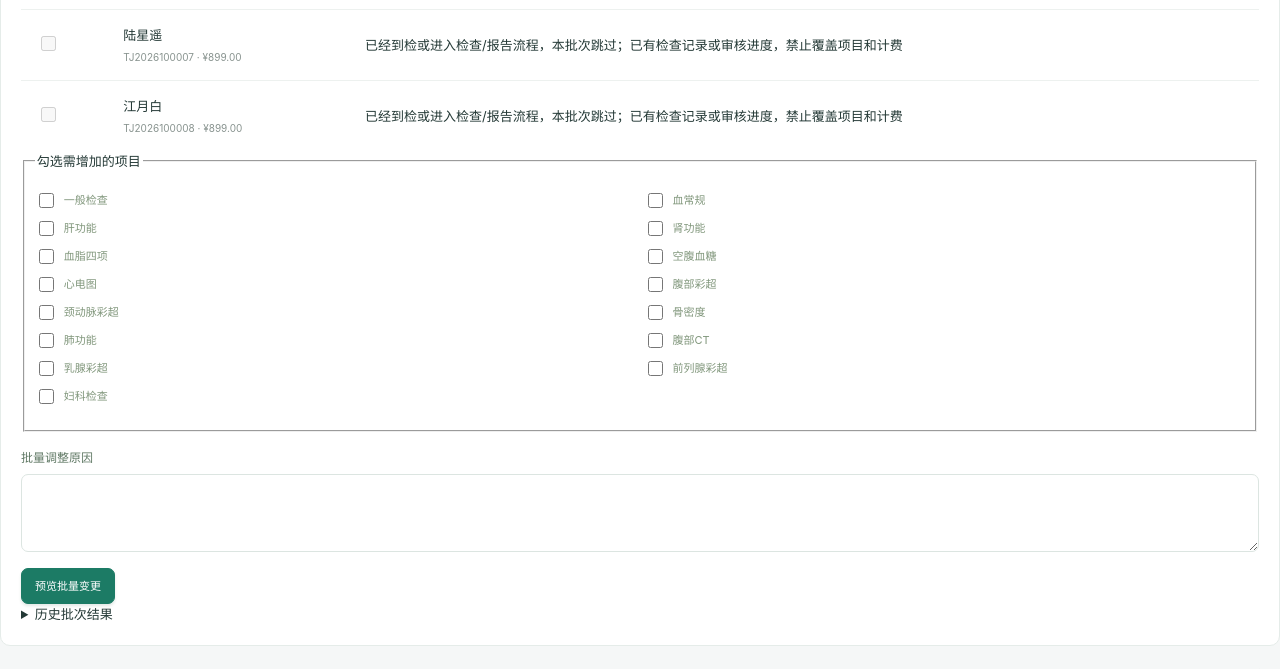
it: guarded batch order editing › BO10 / T0183 UI cancel does not persist; confirmed visual batch shows per-order results
This screenshot has width=1280, height=669.
(page scrolled)
Click the checkbox named "批量项目 骨密度": (655, 313) [648, 305, 662, 320]
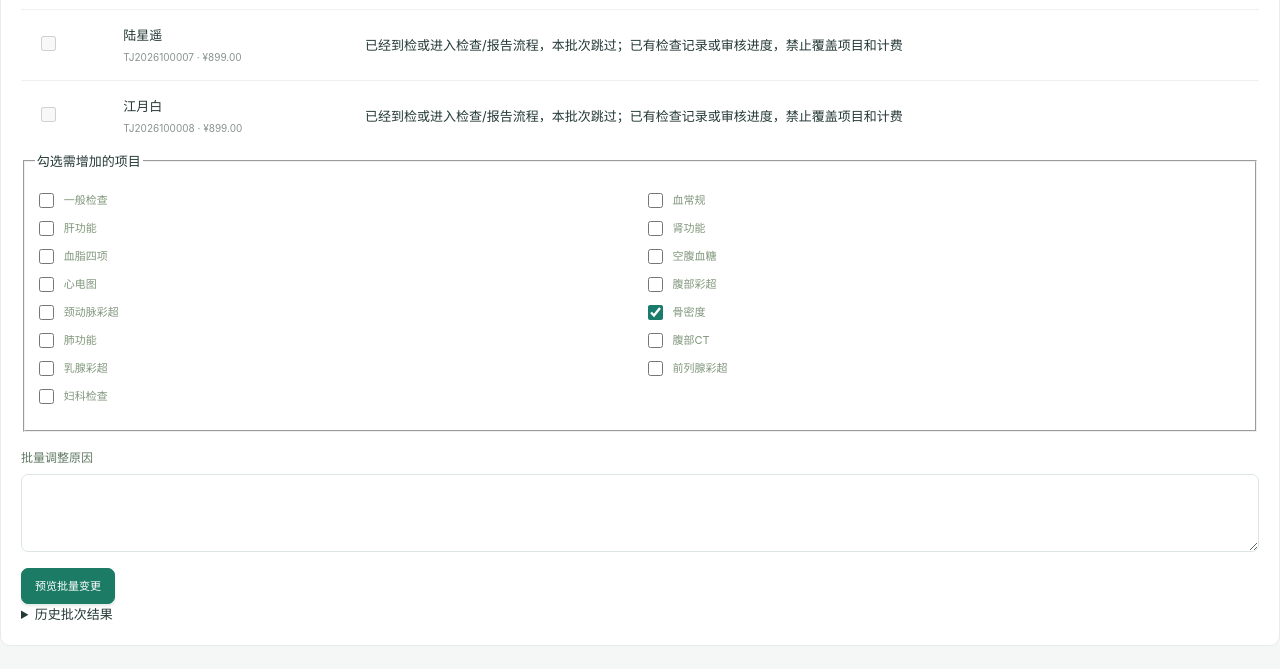
In the text box labelled "批量调整原因": (640, 513) [21, 474, 1259, 552], type "合成项目追加"
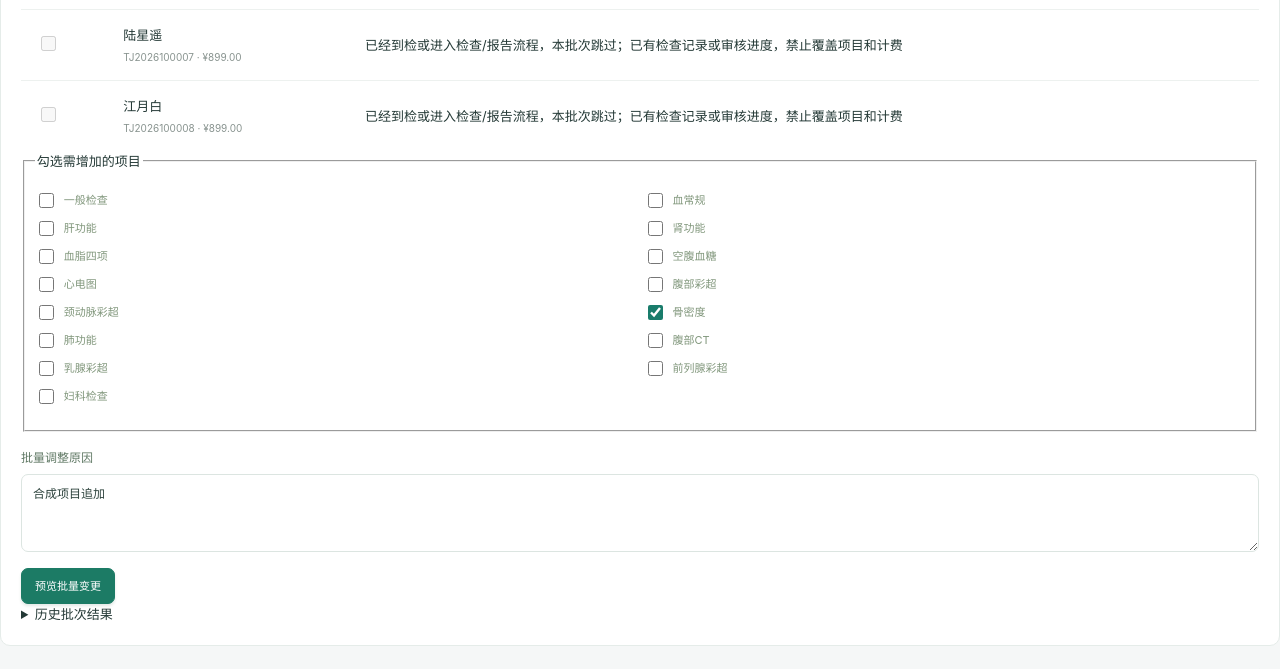
Click the button "预览批量变更": (68, 586) [21, 568, 115, 604]
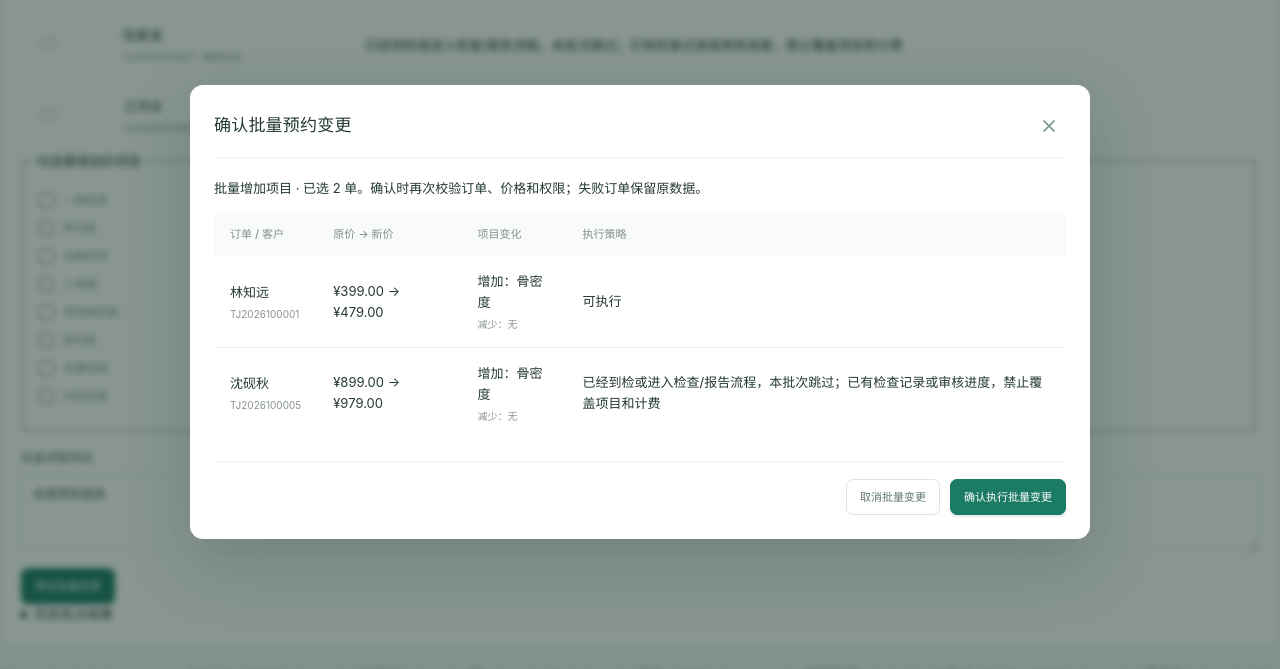
Now the table named "批量变更逐单预览" shows "已经到检", box [583, 374, 1042, 411]
Click the button "取消批量变更": (893, 497) [846, 478, 940, 515]
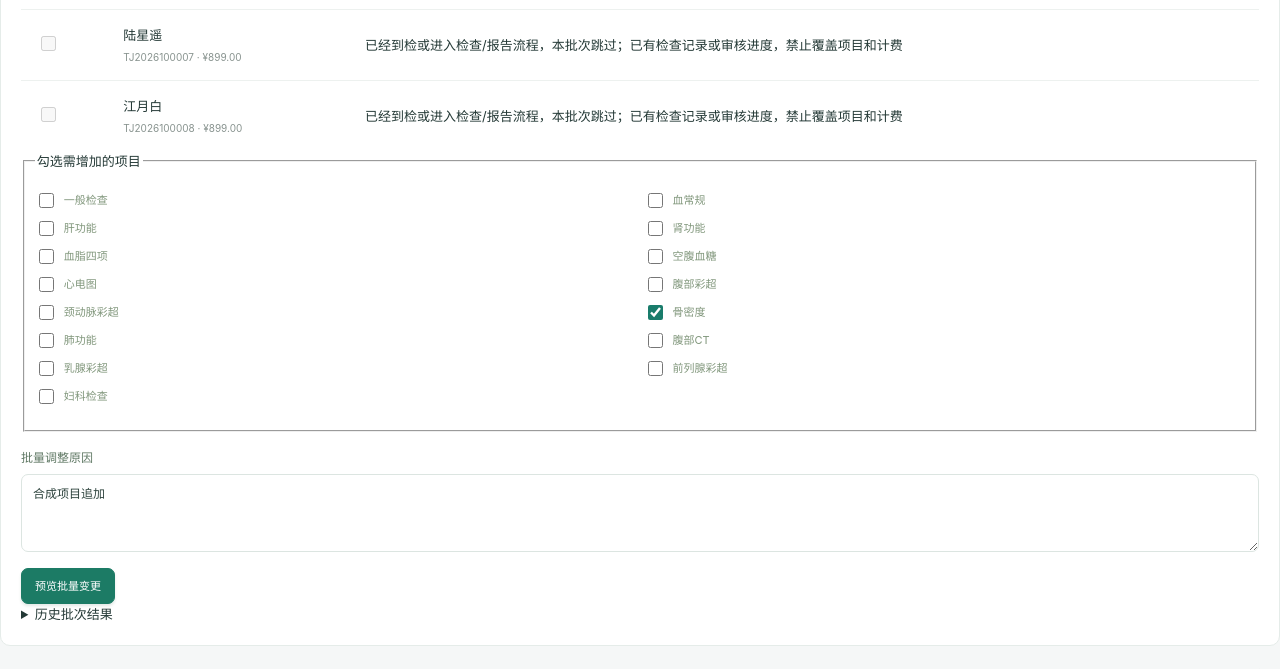
Click the button "预览批量变更": (68, 586) [21, 568, 115, 604]
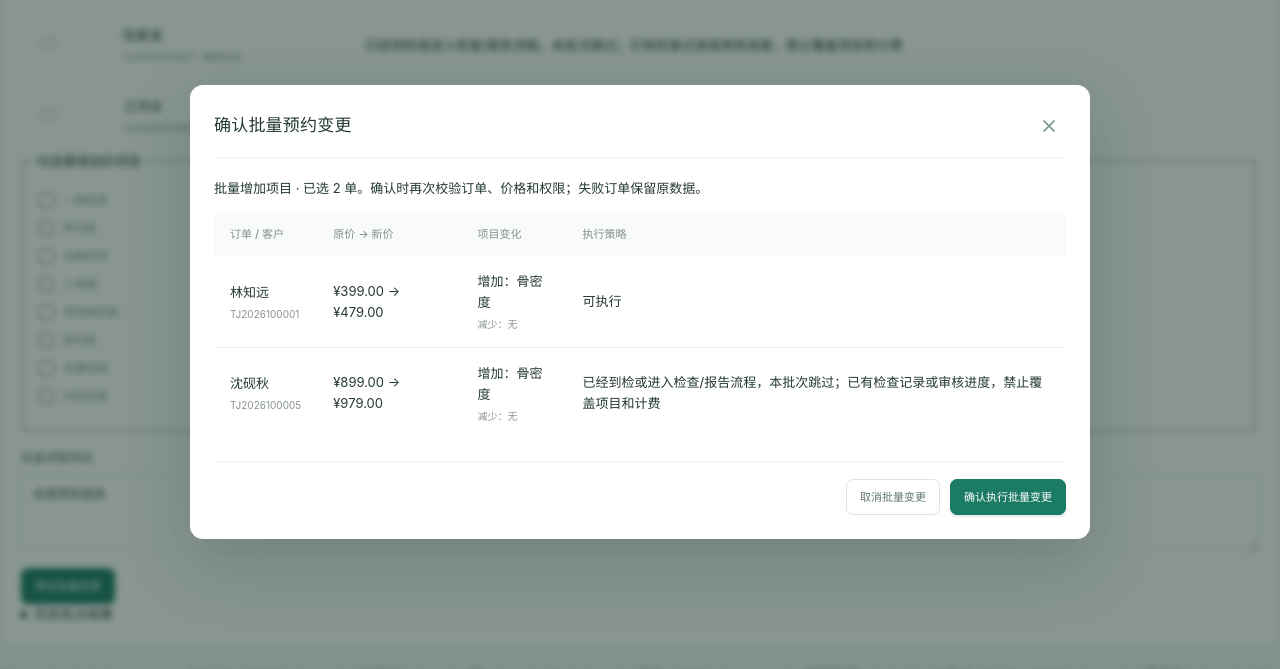
Click the button "确认执行批量变更": (1008, 497) [950, 478, 1066, 515]
(page scrolled)
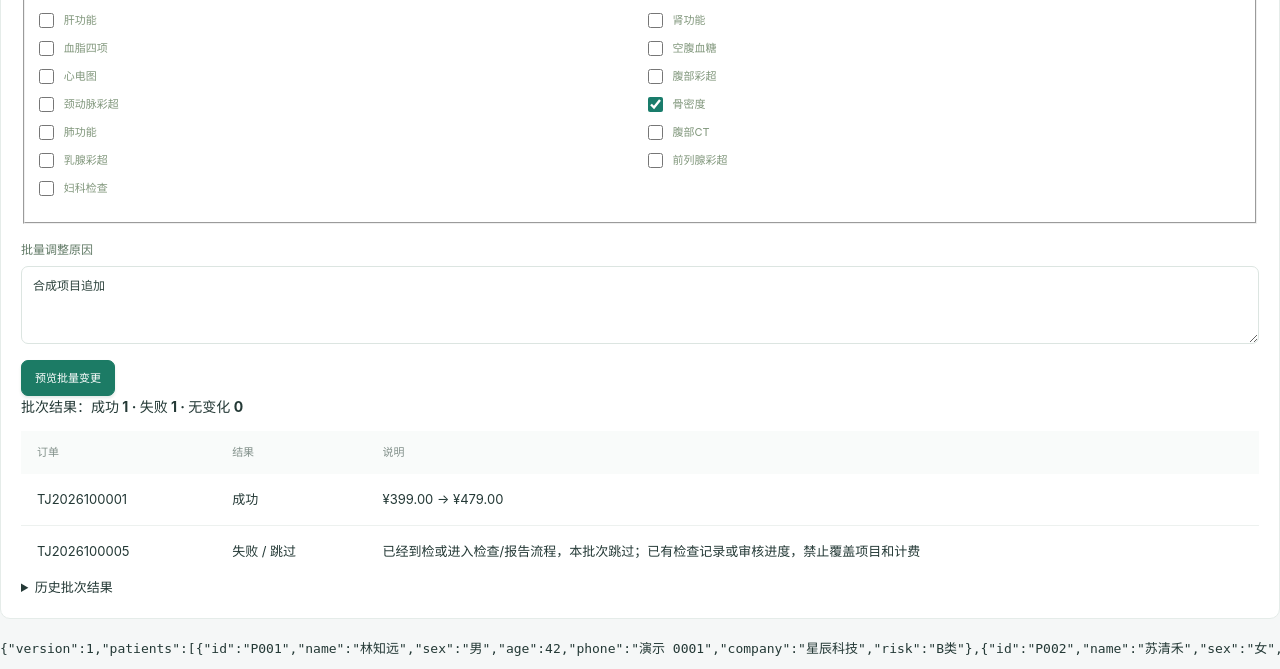
Now the element named "批量执行结果" shows "成功 1 · 失败 1", box [21, 396, 1259, 577]
